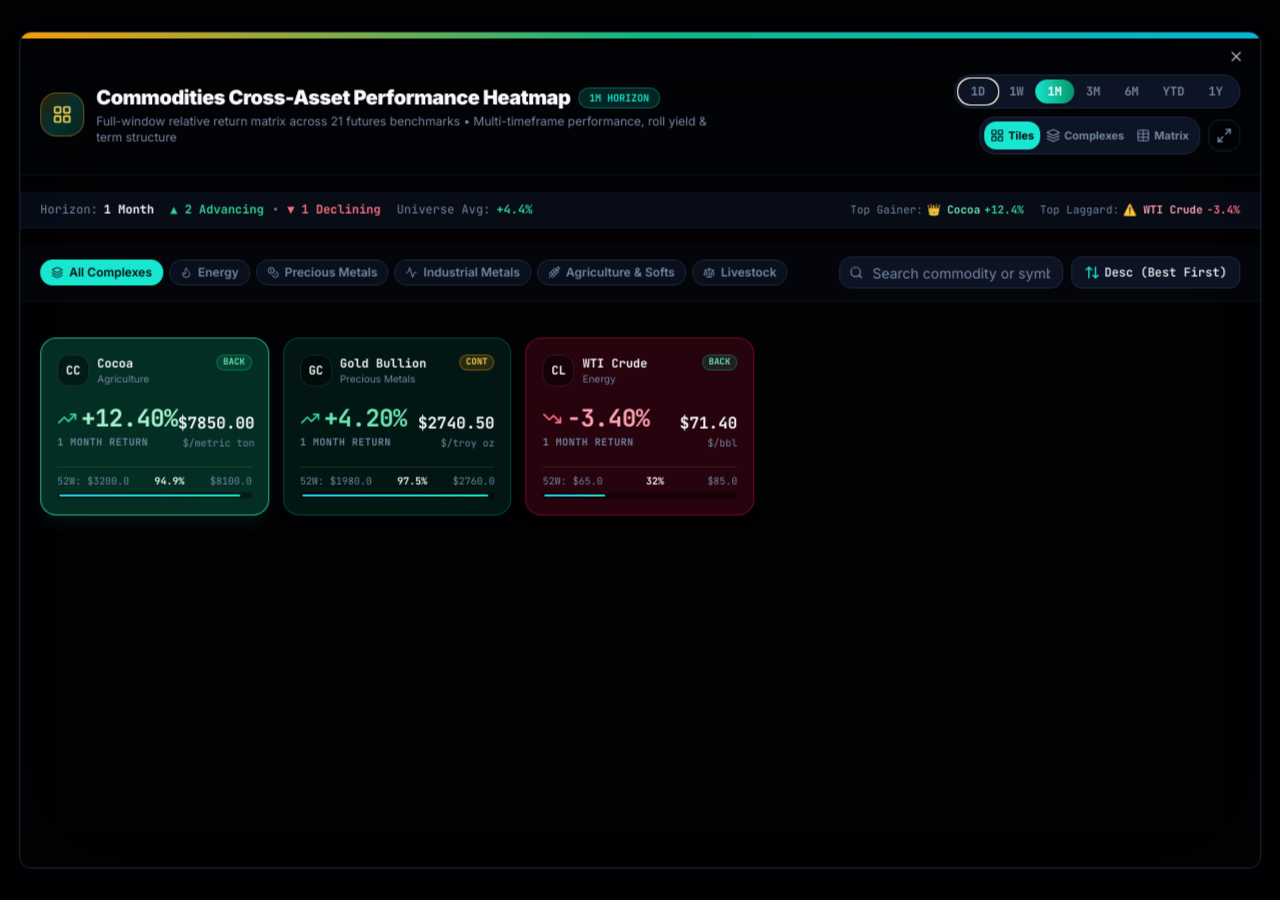
Test: CommodityHeatmapModal › filters by commodity complex
This screenshot has width=1280, height=900.
# Click 'Energy' complex tab
Click the button "Energy": (209, 272) x1=169 y1=260 x2=250 y2=286
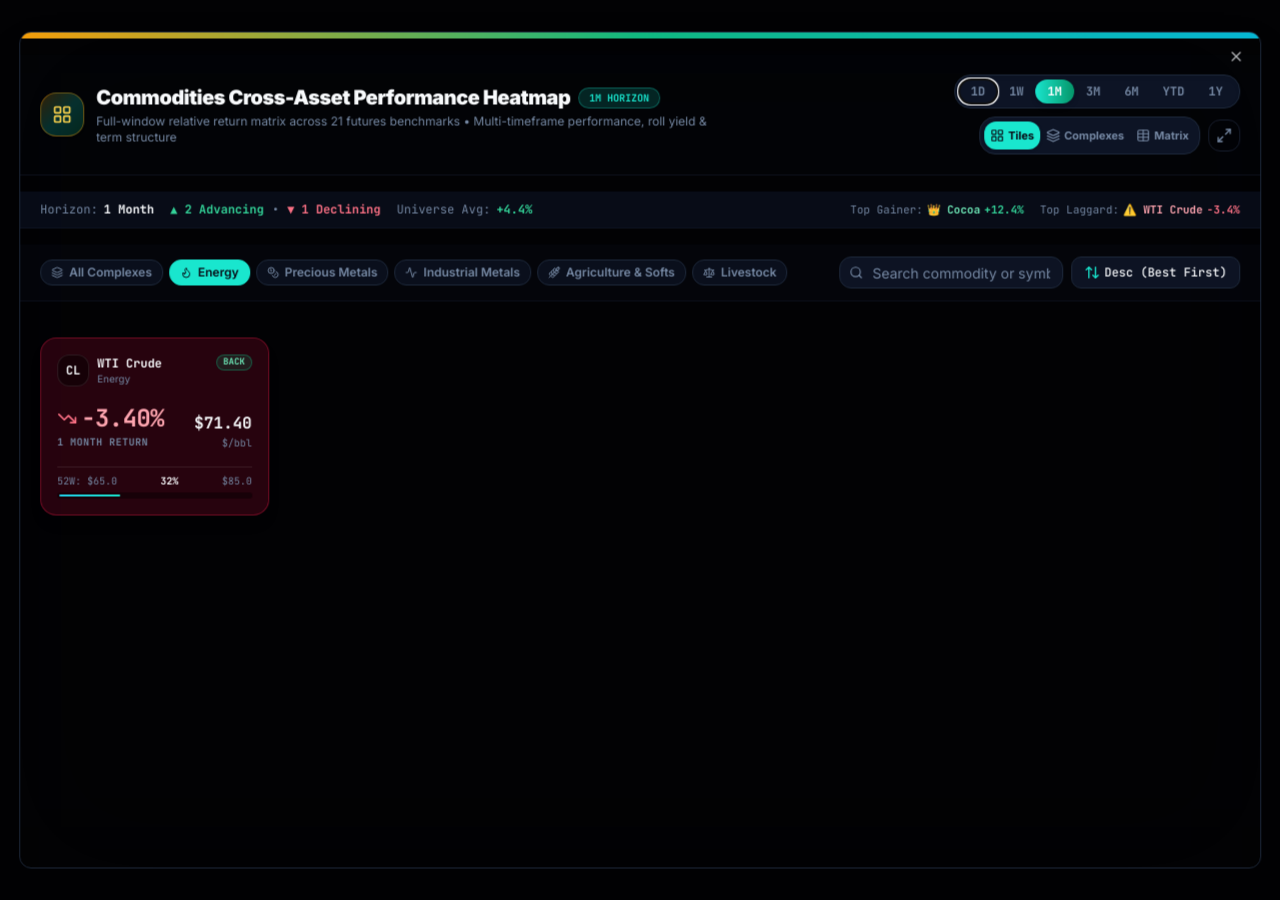
Expected: the text "WTI Crude" is shown, x1=97 y1=355 x2=162 y2=371
Expected: the text "Gold Bullion" is gone
